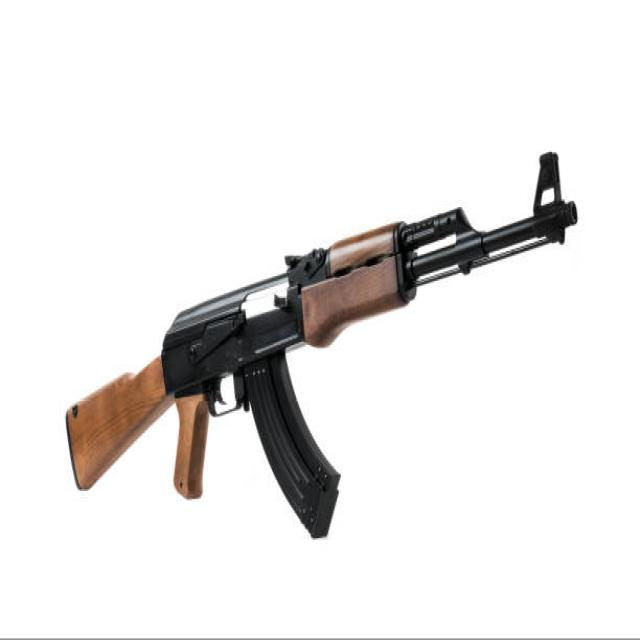rifle: (65, 144, 585, 545)
